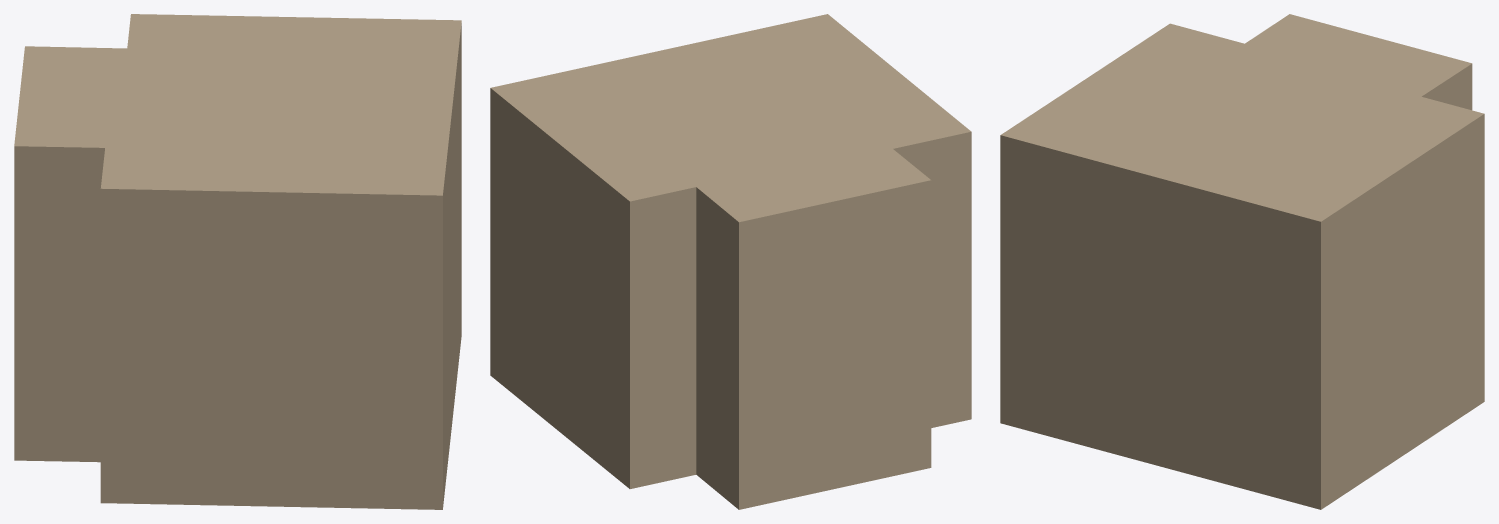
File: bld_101246027.dae
The picture shows the model from 3 angles, left to right: view 1: azimuth 30°, elevation 25°; view 2: azimuth 150°, elevation 25°; view 3: azimuth 270°, elevation 25°; orthographic projection. The views are drawn at different scales.
Visible parts, largest first — view 1: bld_101246027; view 2: bld_101246027; view 3: bld_101246027.
Boxes of the visible parts, x1,y1,x2,y2 form: bld_101246027: (14, 14, 461, 509); bld_101246027: (490, 14, 971, 509); bld_101246027: (1000, 14, 1484, 509).
Bounding box in the file's own units: 10.83 × 10.66 × 7.
